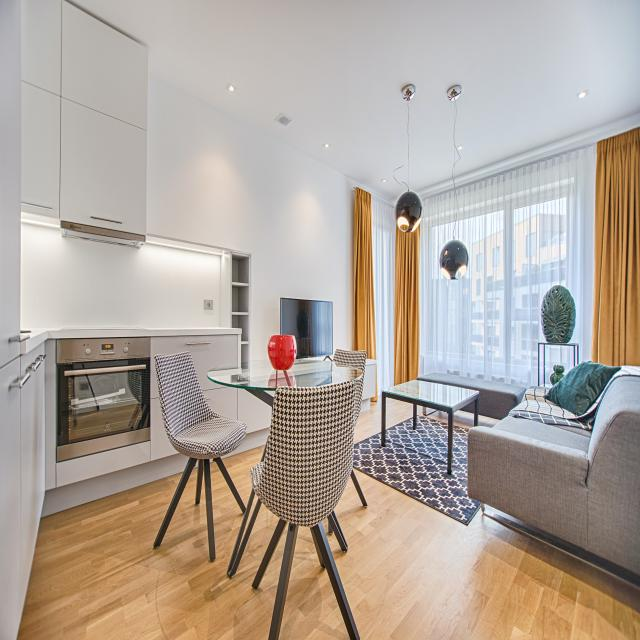floor: (321, 467, 640, 640), (17, 461, 289, 640), (278, 526, 351, 640), (221, 444, 266, 509), (354, 394, 382, 444), (237, 493, 258, 555), (386, 397, 413, 430), (417, 405, 448, 424), (453, 410, 474, 429), (478, 415, 501, 428)
wall: (146, 71, 394, 361), (21, 0, 148, 236), (20, 223, 220, 330), (238, 315, 249, 342), (238, 257, 249, 283), (238, 286, 249, 312), (232, 287, 238, 312), (241, 344, 249, 362), (232, 260, 238, 282), (232, 315, 238, 328)
